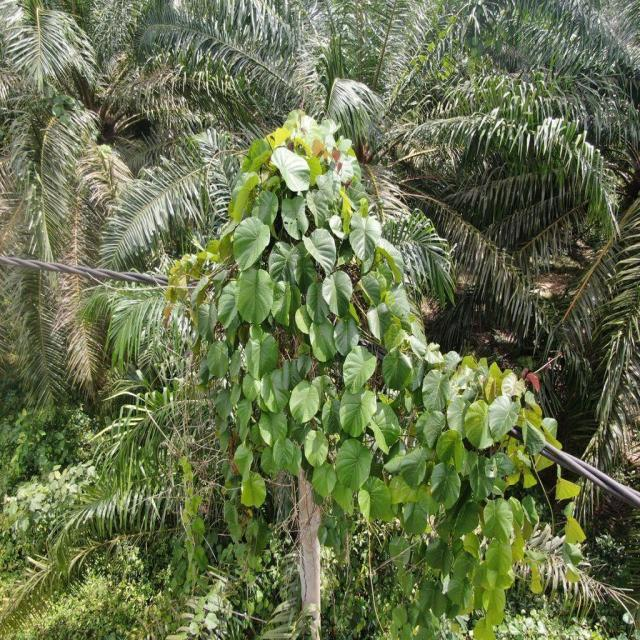critical vegetation: (155, 104, 570, 617)
